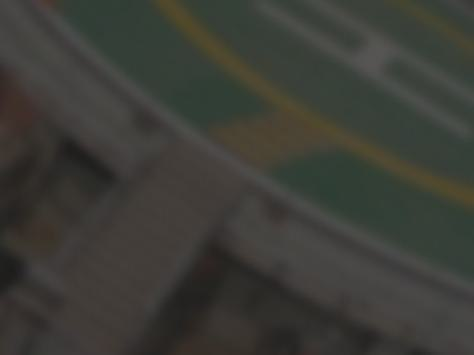Apron: (155, 1, 473, 203)
